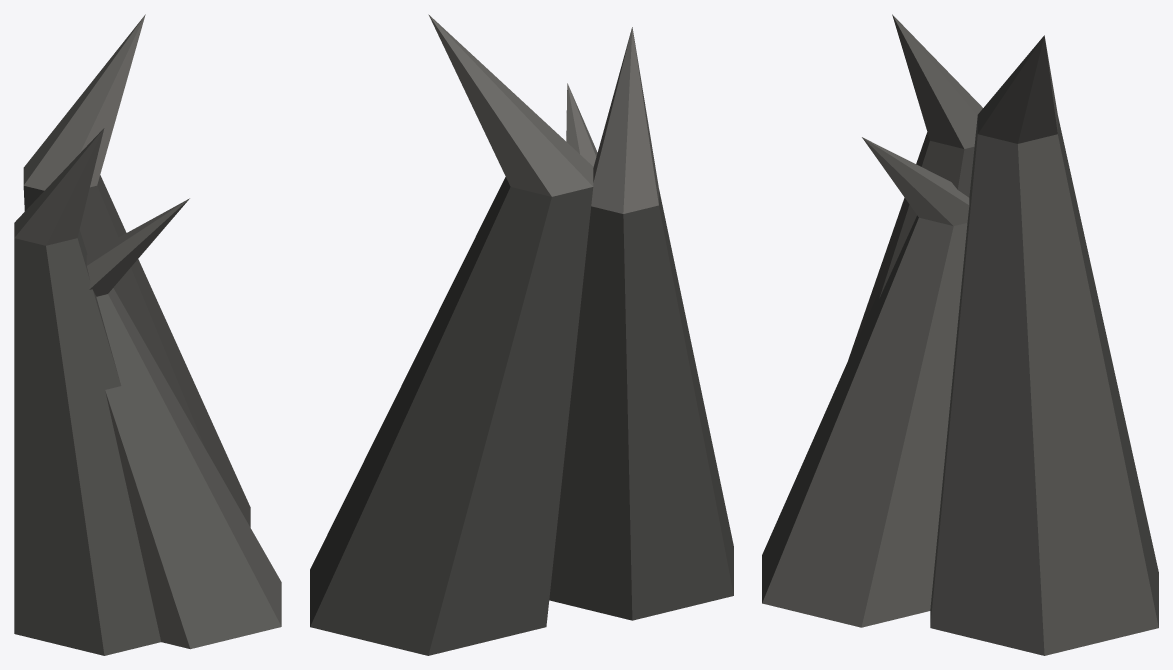
The model's file is stalagmite.glb.
3 views of the same model, side by side, from view 1: azimuth 30°, elevation 25°; view 2: azimuth 150°, elevation 25°; view 3: azimuth 270°, elevation 25° (orthographic). The views are drawn at different scales.
Parts seen in each view (by area): view 1: stalagmite; view 2: stalagmite; view 3: stalagmite.
Part boxes in pixels (<box>): stalagmite: <box>14,14,281,655</box>; stalagmite: <box>310,14,733,655</box>; stalagmite: <box>762,14,1158,655</box>.
Size of the model in its own units: 0.666 by 1.08 by 0.6858.
1 material, 1 textured.
